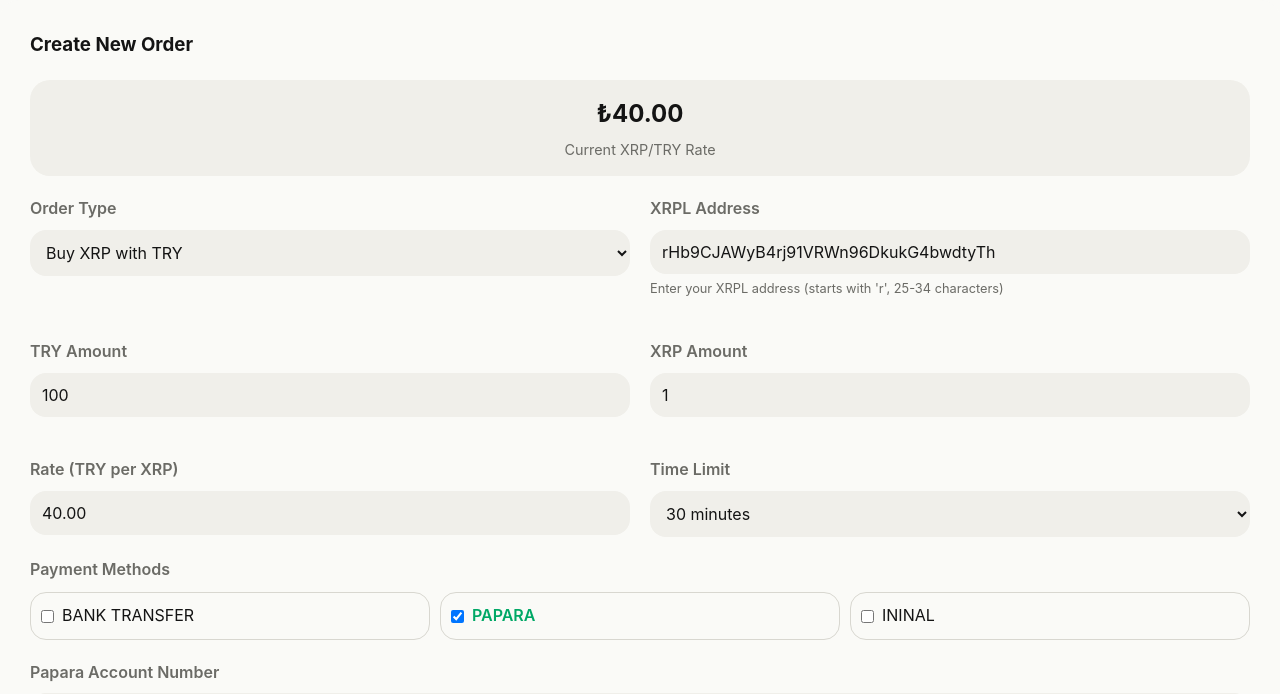
OrderForm › XRP amount auto-calculates TRY via the rate
The image size is (1280, 694).
Expected: the text "PAPARA" is shown, [472,603,535,629]
Replace the text in the number field with placeholder "0.000000" below "XRP Amount" with "5" at (950, 395), box [650,373,1250,417]
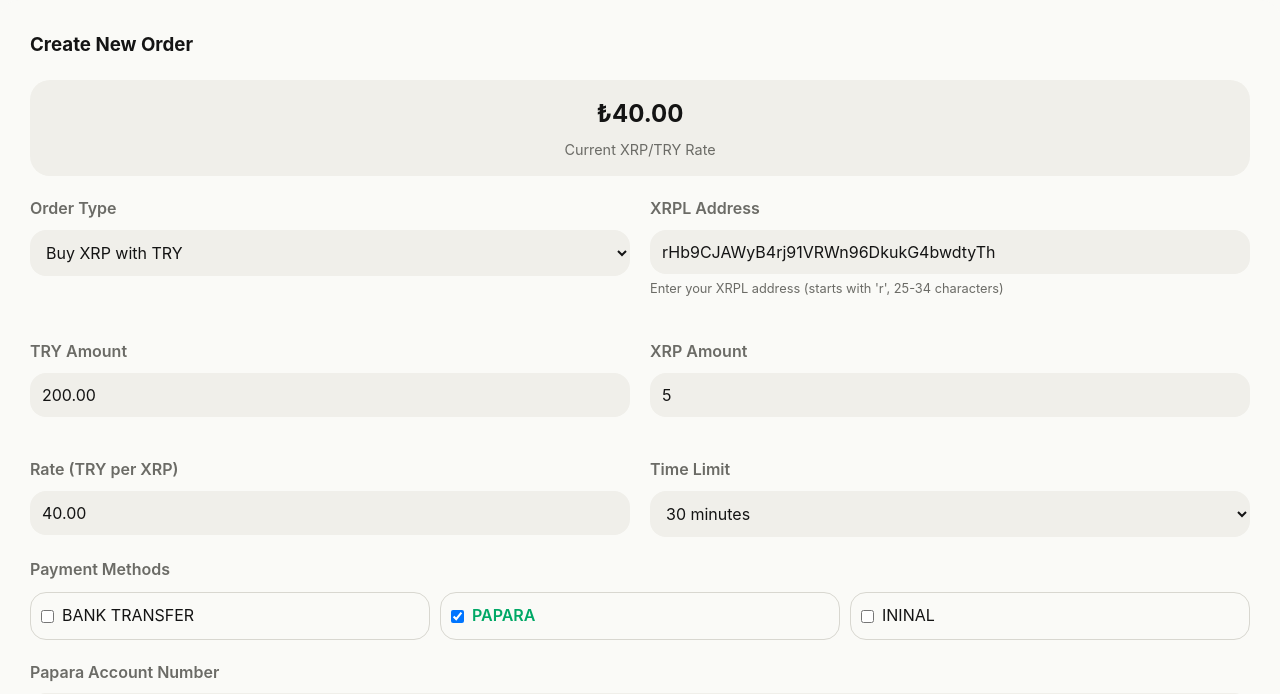
Now the number field named "tryAmount" below "TRY Amount" holds "200", box [30,373,630,417]
